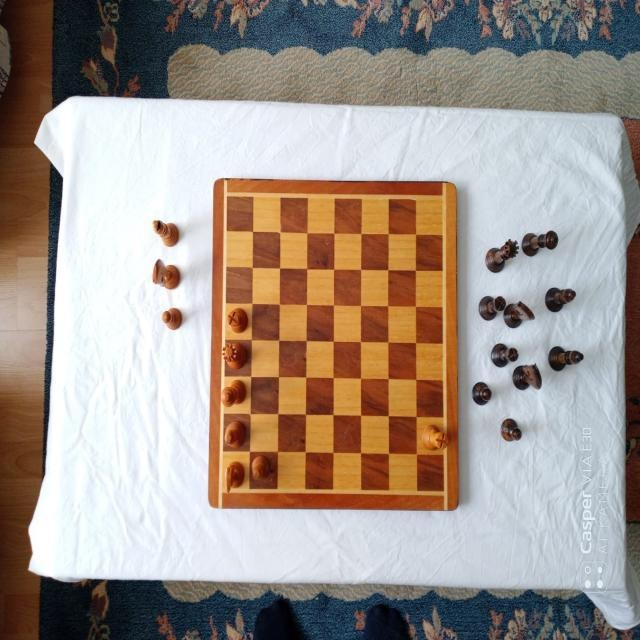black-bishop: (548, 344, 584, 371), (544, 284, 576, 311)
black-king: (521, 229, 559, 257)
black-knight: (504, 299, 536, 328), (512, 364, 543, 392)
black-pawn: (499, 416, 522, 444), (471, 380, 493, 407)
black-queen: (484, 238, 520, 273)
black-rook: (478, 294, 506, 321), (490, 342, 518, 368)
white-bishop: (152, 219, 180, 249), (223, 420, 247, 450)
white-king: (220, 378, 247, 409)
white-knight: (150, 258, 181, 290), (225, 460, 245, 493)
white-pawn: (160, 306, 183, 332), (249, 455, 271, 481)
white-queen: (221, 340, 247, 370)
white-rook: (421, 422, 448, 454), (226, 307, 250, 334)
